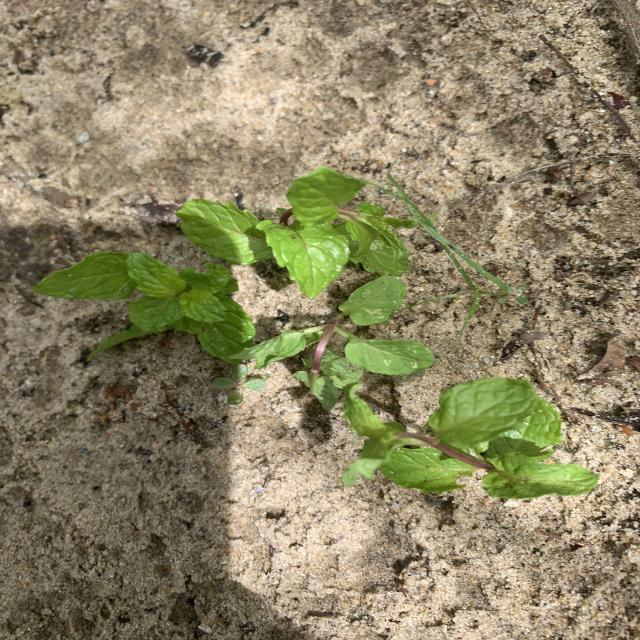crop: (341, 377, 598, 498), (176, 168, 414, 297), (231, 275, 431, 409), (33, 252, 255, 363)
weed: (370, 171, 514, 344), (213, 364, 269, 405), (515, 285, 529, 304)
